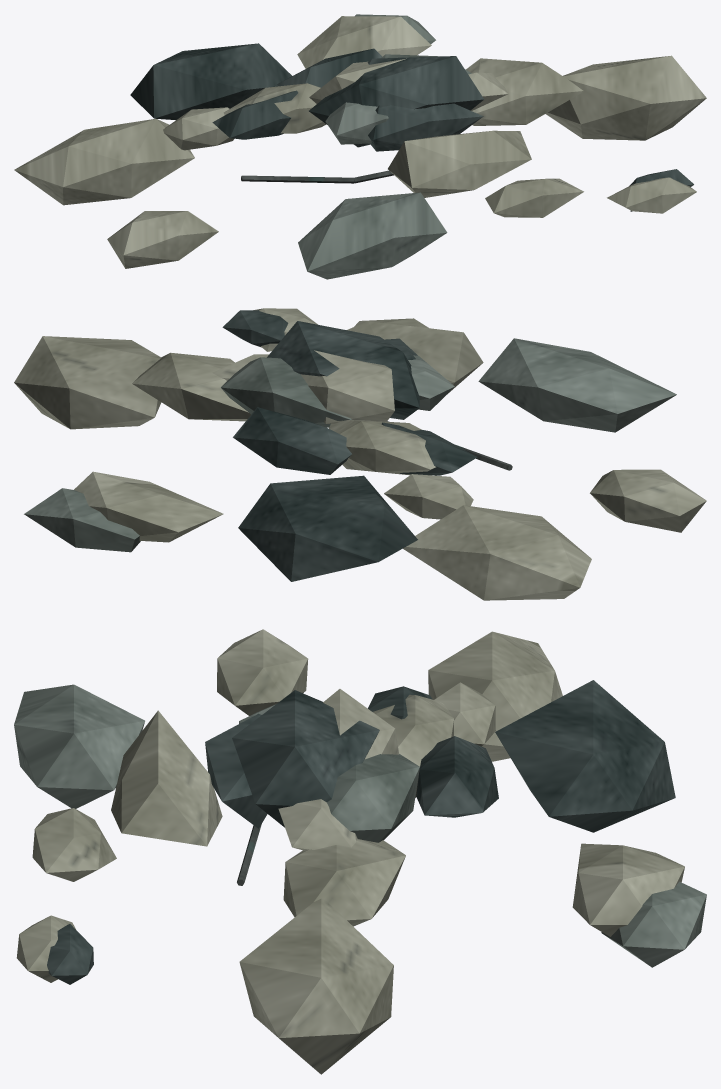
The model's file is 0120_scree_pile_20.glb.
3 renders of one model, top to bottom at view 1: azimuth 30°, elevation 25°; view 2: azimuth 150°, elevation 25°; view 3: azimuth 270°, elevation 25°, orthographic. The views are drawn at different scales.
Parts seen in each view (by area): view 1: stone_light, stone_dark, stone, iron; view 2: stone_light, stone_dark, stone; view 3: stone_light, stone_dark, stone.
Part boxes in pixels (<box>): stone_light: <box>14,16,706,268</box>; stone_dark: <box>130,43,693,211</box>; stone: <box>298,14,471,279</box>; iron: <box>241,170,393,183</box>; stone_light: <box>14,308,706,600</box>; stone_dark: <box>222,310,477,581</box>; stone: <box>24,338,676,552</box>; stone_light: <box>16,629,684,1074</box>; stone_dark: <box>47,680,675,984</box>; stone: <box>14,684,706,967</box>.
Size of the model in its own units: 3.55 by 0.756 by 2.64.
4 materials, 4 textured.
